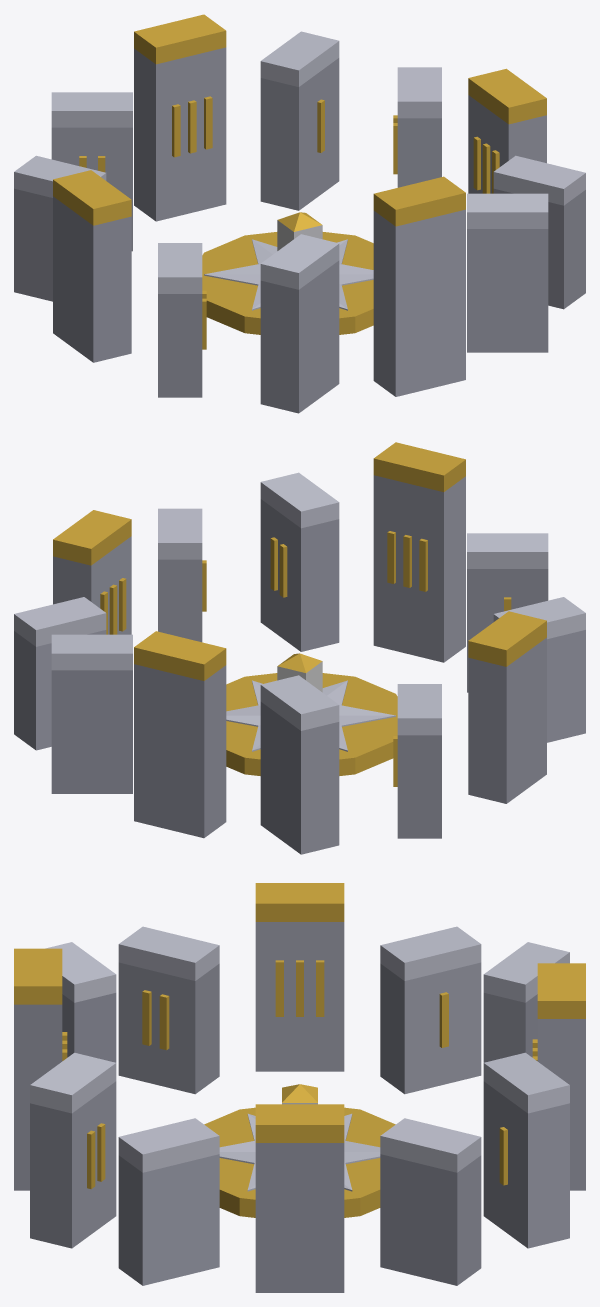
File: Decor_ClockTower_HourStones.fbx
3 renders of one model, top to bottom at view 1: azimuth 30°, elevation 25°; view 2: azimuth 150°, elevation 25°; view 3: azimuth 270°, elevation 25°, orthographic. The views are drawn at different scales.
Visible parts, largest first — view 1: HourStones_Body; view 2: HourStones_Body; view 3: HourStones_Body.
Boxes of the visible parts, bbox=[...] form: HourStones_Body: bbox=[14, 14, 585, 413]; HourStones_Body: bbox=[14, 442, 585, 854]; HourStones_Body: bbox=[14, 883, 585, 1292].
Bounding box in the file's own units: 14.2 × 5.6 × 14.2.
